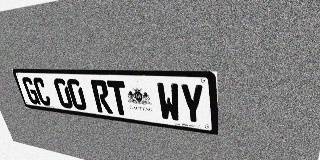0: (66, 79, 88, 111), (52, 78, 74, 109)
C: (32, 77, 52, 106)
G: (21, 77, 41, 105)
R: (90, 80, 113, 114)
T: (106, 80, 130, 116)
W: (156, 82, 182, 122)
Y: (179, 83, 205, 125)
